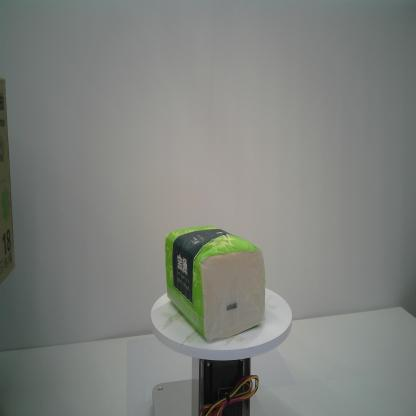Tissue: (164, 224, 264, 342)
